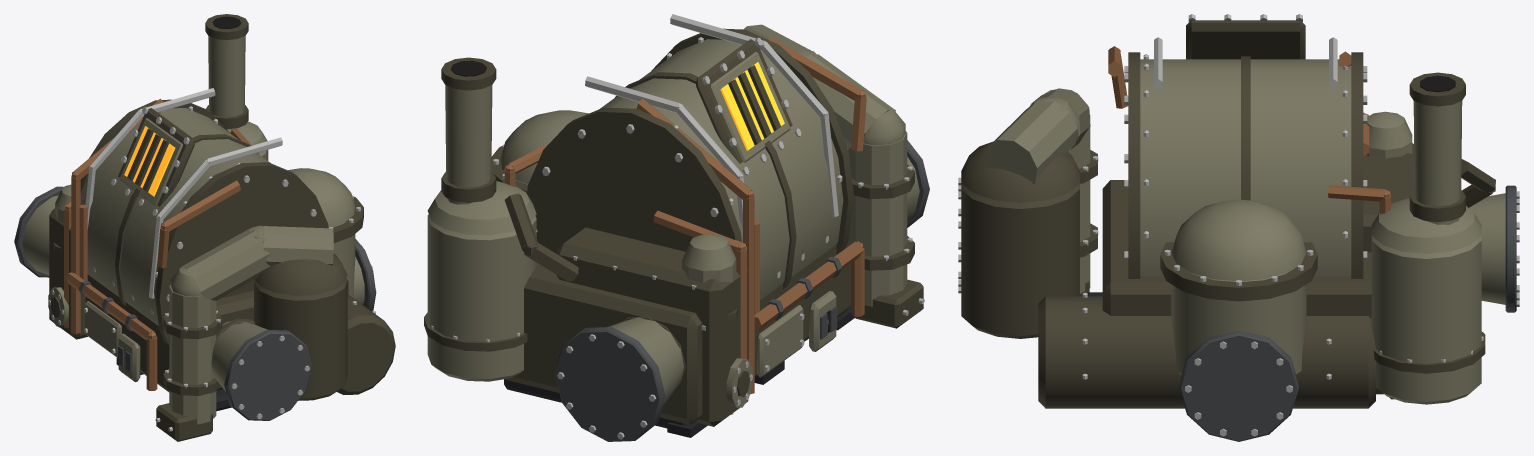
Rendered from boiler-east.glb.
3 views of the same model, side by side, from view 1: azimuth 30°, elevation 25°; view 2: azimuth 150°, elevation 25°; view 3: azimuth 270°, elevation 25° (orthographic). The views are drawn at different scales.
Parts seen in each view (by area): view 1: body; view 2: body; view 3: body.
Part boxes in pixels (x1,y1,x2,y2): body: (14,14,395,441); body: (424,14,929,441); body: (958,14,1519,441).
Size of the model in its own units: 2.09 by 1.96 by 2.99.
